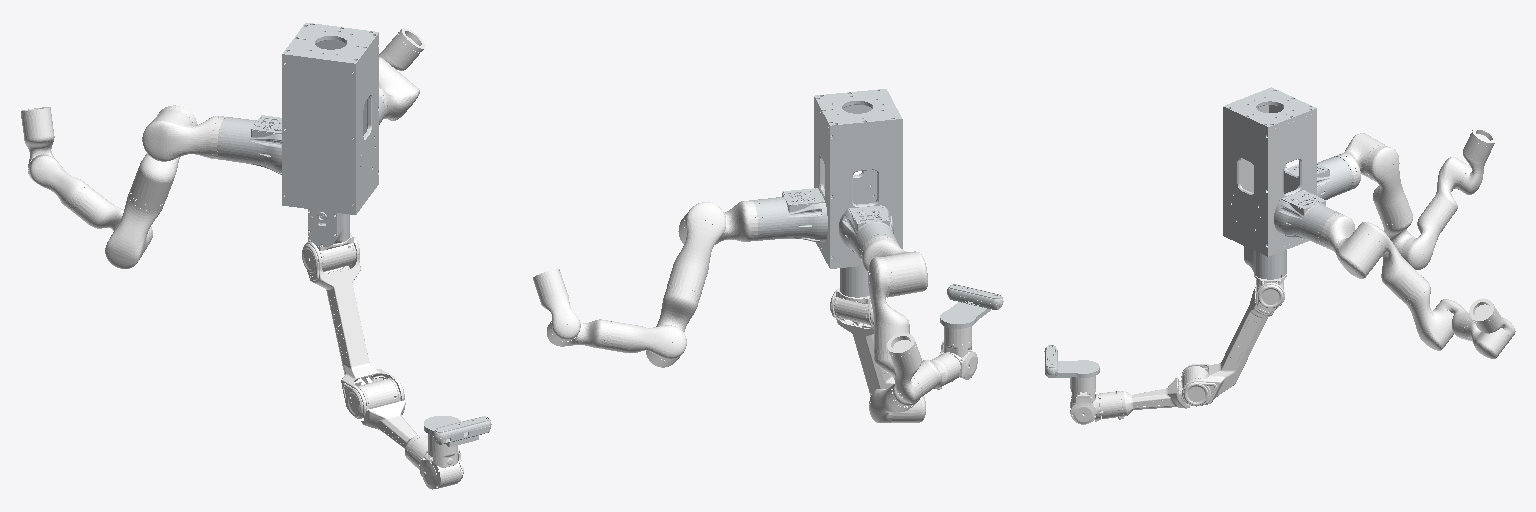
--- What the picture shows (computed from the rendered views, not written in the file) ---
The picture shows the robot from 3 angles, left to right: view 1: azimuth 30°, elevation 25°; view 2: azimuth 150°, elevation 25°; view 3: azimuth 270°, elevation 25°; orthographic projection.
Robot: robot_V13 — 21 links, 20 joints (19 revolute, 1 fixed); root link World; default pose: every joint at zero.
Links seen in each view (by area): view 1: platform_link, Link_S2, Link_B2, Link_B1, Link_S3, Link_B4, Link_S6, Link_A1, Link_B3, Link_B5, Link_A5, Link_S4 (+2 smaller); view 2: platform_link, Link_A2, Link_B2, Link_B1, Link_A3, Link_A5, Link_S6, Link_S2, Link_B5, Link_A1, Link_A4, Link_B4 (+4 smaller); view 3: platform_link, Link_S2, Link_A2, Link_B2, Link_A1, Link_S3, Link_B3, Link_B5, Link_B4, Link_S6, Link_S5, Link_B1 (+3 smaller).
Link boxes in pixels (left/top/right/bottom): platform_link: left=217, top=23, right=385, bottom=246; Link_S2: left=302, top=233, right=404, bottom=418; Link_B2: left=105, top=105, right=197, bottom=268; Link_B1: left=142, top=109, right=224, bottom=161; Link_S3: left=357, top=378, right=427, bottom=469; Link_B4: left=28, top=154, right=86, bottom=207; Link_S6: left=424, top=416, right=491, bottom=446; Link_A1: left=379, top=63, right=419, bottom=120; Link_B3: left=68, top=184, right=152, bottom=243; Link_B5: left=21, top=107, right=54, bottom=177; Link_A5: left=379, top=28, right=424, bottom=70; Link_S4: left=420, top=454, right=461, bottom=489; platform_link: left=753, top=89, right=902, bottom=297; Link_A2: left=646, top=202, right=725, bottom=367; Link_B2: left=868, top=257, right=925, bottom=422; Link_B1: left=861, top=236, right=927, bottom=297; Link_A3: left=603, top=320, right=686, bottom=359; Link_A5: left=533, top=269, right=580, bottom=340; Link_S6: left=940, top=284, right=1003, bottom=328; Link_S2: left=830, top=288, right=894, bottom=395; Link_B5: left=887, top=333, right=921, bottom=403; Link_A1: left=678, top=200, right=757, bottom=244; Link_A4: left=547, top=319, right=607, bottom=348; Link_B4: left=892, top=360, right=941, bottom=406; platform_link: left=1223, top=87, right=1353, bottom=279; Link_S2: left=1181, top=279, right=1284, bottom=406; Link_A2: left=1358, top=222, right=1453, bottom=350; Link_B2: left=1367, top=146, right=1415, bottom=256; Link_A1: left=1321, top=214, right=1385, bottom=278; Link_S3: left=1099, top=366, right=1208, bottom=419; Link_B3: left=1403, top=199, right=1453, bottom=269; Link_B5: left=1461, top=128, right=1495, bottom=194; Link_B4: left=1433, top=157, right=1471, bottom=213; Link_S6: left=1044, top=345, right=1099, bottom=377; Link_S5: left=1070, top=376, right=1096, bottom=423; Link_B1: left=1337, top=133, right=1385, bottom=190.
Bounding box of the posed robot: 0.8912 × 1.03 × 0.7548 m (x, y, z).
17 mesh visuals loaded from 20 distinct referenced files (17 binary STL); not drawn: 3 (reference not matched to a file when rendering).

The robot description file, URDF, robot "robot_V13":
<?xml version="1.0" encoding="utf-8"?>
<!-- This URDF was automatically created by SolidWorks to URDF Exporter! Originally created by Stephen Brawner ([email redacted])
     Commit Version: 1.6.0-4-g7f85cfe  Build Version: 1.6.7995.38578
     For more information, please see http://wiki.ros.org/sw_urdf_exporter -->
<robot
  name="robot_V13">
  <!-- World root link for proper articulation structure in Isaac Sim -->
  <link name="World"/>

  <!-- Fixed joint connecting World to base_link -->
  <joint name="world_to_base" type="fixed">
    <parent link="World"/>
    <child link="base_link"/>
    <origin xyz="0 0 0" rpy="0 0 0"/>
  </joint>

  <link
    name="base_link">
    <inertial>
      <origin
        xyz="0.0350225134736962 -0.045653549564831 0.267035863945469"
        rpy="0 0 0" />
      <mass
        value="289.278432762858" />
      <inertia
        ixx="9.23659204469314"
        ixy="0.00488951210528622"
        ixz="0.00330658007223796"
        iyy="19.3651626709836"
        iyz="0.513621947132372"
        izz="22.3286664811058" />
    </inertial>
    <visual>
      <origin
        xyz="0 0 0"
        rpy="0 0 0" />
      <geometry>
        <mesh
          filename="../meshes/base_link.STL" />
      </geometry>
      <material
        name="">
        <color
          rgba="0.792156862745098 0.819607843137255 0.933333333333333 1" />
      </material>
    </visual>
    <collision>
      <origin
        xyz="0 0 0"
        rpy="0 0 0" />
      <geometry>
        <mesh
          filename="../meshes/base_link.STL" />
      </geometry>
    </collision>
  </link>
  <link
    name="platform_link">
    <inertial>
      <origin
        xyz="0.00669542627058103 0.0327387114637423 -0.197541586318534"
        rpy="0 0 0" />
      <mass
        value="5.62676904597552" />
      <inertia
        ixx="0.032912619778256"
        ixy="-0.00101982319674113"
        ixz="-7.8232029828291E-06"
        iyy="0.0330812050692955"
        iyz="-5.06524274225643E-05"
        izz="0.0111162517830387" />
    </inertial>
    <visual>
      <origin
        xyz="0 0 0"
        rpy="0 0 0" />
      <geometry>
        <mesh
          filename="../meshes/platform_link.STL" />
      </geometry>
      <material
        name="">
        <color
          rgba="0.898039215686275 0.917647058823529 0.929411764705882 1" />
      </material>
    </visual>
    <collision>
      <origin
        xyz="0 0 0"
        rpy="0 0 0" />
      <geometry>
        <mesh
          filename="../meshes/platform_link.STL" />
      </geometry>
    </collision>
  </link>
  <joint
    name="joint_platform_D1"
    type="revolute">
    <origin
      xyz="0 0 0"
      rpy="0 0 0" />
    <parent
      link="base_link" />
    <child
      link="platform_link" />
    <axis
      xyz="0 0 -1" />
    <limit
      lower="-3.14"
      upper="3.14"
      effort="100"
      velocity="50" />
  </joint>
  <link
    name="Link_A1">
    <inertial>
      <origin
        xyz="0.0169308367894223 0.0125928013215484 0.0768128774242119"
        rpy="0 0 0" />
      <mass
        value="0.593525762282562" />
      <inertia
        ixx="0.001211740353914"
        ixy="-4.04510751675718E-05"
        ixz="-0.000169403894082202"
        iyy="0.00123597531032555"
        iyz="-0.000126111277061559"
        izz="0.000561310092473764" />
    </inertial>
    <visual>
      <origin
        xyz="0 0 0"
        rpy="0 0 0" />
      <geometry>
        <mesh
          filename="../meshes/Link_A1.STL" />
      </geometry>
      <material
        name="">
        <color
          rgba="1 1 1 1" />
      </material>
    </visual>
    <collision>
      <origin
        xyz="0 0 0"
        rpy="0 0 0" />
      <geometry>
        <mesh
          filename="../meshes/Link_A1.STL" />
      </geometry>
    </collision>
  </link>
  <joint
    name="joint_platform_A1"
    type="revolute">
    <origin
      xyz="0.156472683129336 0.142433967655858 -0.227311716711955"
      rpy="-1.57079632679501 0 -0.826733214100753" />
    <parent
      link="platform_link" />
    <child
      link="Link_A1" />
    <axis
      xyz="0 0 1" />
    <limit
      lower="-3.14"
      upper="3.14"
      effort="100"
      velocity="50" />
  </joint>
  <link
    name="Link_A2">
    <inertial>
      <origin
        xyz="-0.0126344741021581 -0.151722416609147 0.0226638907893547"
        rpy="0 0 0" />
      <mass
        value="0.864181214181756" />
      <inertia
        ixx="0.00204291594675937"
        ixy="-0.000117497060965045"
        ixz="3.49972816263209E-05"
        iyy="0.000642323165198608"
        iyz="0.00042016637411416"
        izz="0.00195279777242341" />
    </inertial>
    <visual>
      <origin
        xyz="0 0 0"
        rpy="0 0 0" />
      <geometry>
        <mesh
          filename="../meshes/Link_A2.STL" />
      </geometry>
      <material
        name="">
        <color
          rgba="1 1 1 1" />
      </material>
    </visual>
    <collision>
      <origin
        xyz="0 0 0"
        rpy="0 0 0" />
      <geometry>
        <mesh
          filename="../meshes/Link_A2.STL" />
      </geometry>
    </collision>
  </link>
  <joint
    name="joint_platform_A2"
    type="revolute">
    <origin
      xyz="-0.013211 -0.009832 0.102"
      rpy="-1.5708 -1.0682 -0.93088" />
    <parent
      link="Link_A1" />
    <child
      link="Link_A2" />
    <axis
      xyz="0 0 1" />
    <limit
      lower="-2.26"
      upper="2.26"
      effort="100"
      velocity="50" />
  </joint>
  <link
    name="Link_A3">
    <inertial>
      <origin
        xyz="0.0578270527827575 -0.0144992229203418 0.00266652314198285"
        rpy="0 0 0" />
      <mass
        value="0.289645597916636" />
      <inertia
        ixx="0.000184905939167842"
        ixy="0.000113389601168155"
        ixz="-0.000140277049300771"
        iyy="0.000608954956903588"
        iyz="3.51374260818499E-05"
        izz="0.000614182801459952" />
    </inertial>
    <visual>
      <origin
        xyz="0 0 0"
        rpy="0 0 0" />
      <geometry>
        <mesh
          filename="../meshes/Link_A3.STL" />
      </geometry>
      <material
        name="">
        <color
          rgba="1 1 1 1" />
      </material>
    </visual>
    <collision>
      <origin
        xyz="0 0 0"
        rpy="0 0 0" />
      <geometry>
        <mesh
          filename="../meshes/Link_A3.STL" />
      </geometry>
    </collision>
  </link>
  <joint
    name="joint_platform_A3"
    type="revolute">
    <origin
      xyz="-0.02127 -0.2551 0.0035251"
      rpy="0 0 0" />
    <parent
      link="Link_A2" />
    <child
      link="Link_A3" />
    <axis
      xyz="0 0 1" />
    <limit
      lower="-2.26"
      upper="2.26"
      effort="100"
      velocity="50" />
  </joint>
  <link
    name="Link_A4">
    <inertial>
      <origin
        xyz="0.016896007871893 -0.00633304037762816 -0.05996151419747"
        rpy="0 0 0" />
      <mass
        value="0.239433776027785" />
      <inertia
        ixx="0.000265607043125794"
        ixy="7.64305481199855E-06"
        ixz="4.14131935380001E-05"
        iyy="0.000283077940585531"
        iyz="-1.55624791539585E-05"
        izz="0.000119899346983553" />
    </inertial>
    <visual>
      <origin
        xyz="0 0 0"
        rpy="0 0 0" />
      <geometry>
        <mesh
          filename="../meshes/Link_A4.STL" />
      </geometry>
      <material
        name="">
        <color
          rgba="1 1 1 1" />
      </material>
    </visual>
    <collision>
      <origin
        xyz="0 0 0"
        rpy="0 0 0" />
      <geometry>
        <mesh
          filename="../meshes/Link_A4.STL" />
      </geometry>
    </collision>
  </link>
  <joint
    name="joint_platform_A4"
    type="revolute">
    <origin
      xyz="0.12466 -0.031269 0.013236"
      rpy="-1.5708 -1.2113 1.3251" />
    <parent
      link="Link_A3" />
    <child
      link="Link_A4" />
    <axis
      xyz="0 0 -1" />
    <limit
      lower="-3.14"
      upper="3.14"
      effort="100"
      velocity="50" />
  </joint>
  <link
    name="Link_A5">
    <inertial>
      <origin
        xyz="0.0380094230376776 0.0456440434886026 0.00506810747745645"
        rpy="0 0 0" />
      <mass
        value="0.218793807603732" />
      <inertia
        ixx="0.000249967614137682"
        ixy="-0.000120769356677445"
        ixz="-5.00570691133891E-05"
        iyy="0.000205481998419059"
        iyz="-6.01294670291514E-05"
        izz="0.000334465752993695" />
    </inertial>
    <visual>
      <origin
        xyz="0 0 0"
        rpy="0 0 0" />
      <geometry>
        <mesh
          filename="../meshes/Link_A5.STL" />
      </geometry>
      <material
        name="">
        <color
          rgba="1 1 1 1" />
      </material>
    </visual>
    <collision>
      <origin
        xyz="0 0 0"
        rpy="0 0 0" />
      <geometry>
        <mesh
          filename="../meshes/Link_A5.STL" />
      </geometry>
    </collision>
  </link>
  <joint
    name="joint_platform_A5"
    type="revolute">
    <origin
      xyz="-0.011361 0.0042683 -0.0815"
      rpy="1.5708 1.3251 1.2113" />
    <parent
      link="Link_A4" />
    <child
      link="Link_A5" />
    <axis
      xyz="0 0 1" />
    <limit
      lower="-2.2"
      upper="2.2"
      effort="100"
      velocity="50" />
  </joint>
  <link
    name="Link_A6">
    <inertial>
      <origin
        xyz="0.00606884565213639 0.0152502416830386 0.109538960794972"
        rpy="0 0 0" />
      <mass
        value="0.652237451823604" />
      <inertia
        ixx="0.000301203372093203"
        ixy="-4.46063215910981E-05"
        ixz="-4.21673354067884E-09"
        iyy="0.000220903467434786"
        iyz="-3.33580588515041E-08"
        izz="0.000367350798134239" />
    </inertial>
    <visual>
      <origin
        xyz="0 0 0"
        rpy="0 0 0" />
      <geometry>
        <mesh
          filename="../meshes/Link_A6.STL" />
      </geometry>
      <material
        name="">
        <color
          rgba="1 1 1 1" />
      </material>
    </visual>
    <collision>
      <origin
        xyz="0 0 0"
        rpy="0 0 0" />
      <geometry>
        <mesh
          filename="../meshes/Link_A6.STL" />
      </geometry>
    </collision>
  </link>
  <joint
    name="joint_platform_A6"
    type="revolute">
    <origin
      xyz="0.0736102642149934 0.0883749191141996 0.0124357145512975"
      rpy="-1.57079646161027 -0.699913541621339 -0.694444981452453" />
    <parent
      link="Link_A5" />
    <child
      link="Link_A6" />
    <axis
      xyz="0 0 0.999999999999972" />
    <limit
      lower="-6.2"
      upper="6.2"
      effort="100"
      velocity="50" />
  </joint>
  <link
    name="Link_B1">
    <inertial>
      <origin
        xyz="-0.0210307677045693 -0.00180296762531718 0.0768121489298764"
        rpy="0 0 0" />
      <mass
        value="0.593520652494392" />
      <inertia
        ixx="0.00118220895129829"
        ixy="-7.13362599303804E-06"
        ixz="0.000210418284594544"
        iyy="0.00126545347689259"
        iyz="1.7913404274321E-05"
        izz="0.000561301129753201" />
    </inertial>
    <visual>
      <origin
        xyz="0 0 0"
        rpy="0 0 0" />
      <geometry>
        <mesh
          filename="../meshes/Link_B1.STL" />
      </geometry>
      <material
        name="">
        <color
          rgba="1 1 1 1" />
      </material>
    </visual>
    <collision>
      <origin
        xyz="0 0 0"
        rpy="0 0 0" />
      <geometry>
        <mesh
          filename="../meshes/Link_B1.STL" />
      </geometry>
    </collision>
  </link>
  <joint
    name="joint_platform_B1"
    type="revolute">
    <origin
      xyz="-0.142473632839857 0.155636147433961 -0.227311716711636"
      rpy="-1.57079632679501 0 0.744063112694143" />
    <parent
      link="platform_link" />
    <child
      link="Link_B1" />
    <axis
      xyz="0 0 1" />
    <limit
      lower="-3.1"
      upper="3.1"
      effort="100"
      velocity="50" />
  </joint>
  <link
    name="Link_B2">
    <inertial>
      <origin
        xyz="-0.0512923555647222 0.143368774947795 -0.0226638192200043"
        rpy="0 0 0" />
      <mass
        value="0.864180135653825" />
      <inertia
        ixx="0.00189155343231143"
        ixy="0.000450453897318777"
        ixz="-0.000142032194705507"
        iyy="0.000793701521921683"
        iyz="0.000396980873965514"
        izz="0.00195281226208713" />
    </inertial>
    <visual>
      <origin
        xyz="0 0 0"
        rpy="0 0 0" />
      <geometry>
        <mesh
          filename="../meshes/Link_B2.STL" />
      </geometry>
      <material
        name="">
        <color
          rgba="1 1 1 1" />
      </material>
    </visual>
    <collision>
      <origin
        xyz="0 0 0"
        rpy="0 0 0" />
      <geometry>
        <mesh
          filename="../meshes/Link_B2.STL" />
      </geometry>
    </collision>
  </link>
  <joint
    name="joint_platform_B2"
    type="revolute">
    <origin
      xyz="0.0164025952708852 0.00137401341327159 0.102000000000029"
      rpy="0.0849621690785075 1.5707963267949 0" />
    <parent
      link="Link_B1" />
    <child
      link="Link_B2" />
    <axis
      xyz="0 0 1" />
    <limit
      lower="-2.26"
      upper="2.26"
      effort="100"
      velocity="50" />
  </joint>
  <link
    name="Link_B3">
    <inertial>
      <origin
        xyz="-0.0445835523044267 0.0396010749025043 0.00266699879920274"
        rpy="0 0 0" />
      <mass
        value="0.289639370938033" />
      <inertia
        ixx="0.000368538565038667"
        ixy="0.000238752155526786"
        ixz="0.000108127866575019"
        iyy="0.000425300259079389"
        iyz="-9.60150408414951E-05"
        izz="0.000614165810695594" />
    </inertial>
    <visual>
      <origin
        xyz="0 0 0"
        rpy="0 0 0" />
      <geometry>
        <mesh
          filename="../meshes/Link_B3.STL" />
      </geometry>
      <material
        name="">
        <color
          rgba="1 1 1 1" />
      </material>
    </visual>
    <collision>
      <origin
        xyz="0 0 0"
        rpy="0 0 0" />
      <geometry>
        <mesh
          filename="../meshes/Link_B3.STL" />
      </geometry>
    </collision>
  </link>
  <joint
    name="joint_platform_B3"
    type="revolute">
    <origin
      xyz="-0.0862037470031803 0.241063204199487 -0.00352514725905964"
      rpy="3.14159265358979 0 -0.0919224225404343" />
    <parent
      link="Link_B2" />
    <child
      link="Link_B3" />
    <axis
      xyz="0 0 1" />
    <limit
      lower="-2.26"
      upper="2.26"
      effort="100"
      velocity="50" />
  </joint>
  <link
    name="Link_B4">
    <inertial>
      <origin
        xyz="-0.00734522629106943 0.0164811078491696 -0.0599618100809589"
        rpy="0 0 0" />
      <mass
        value="0.239430613356858" />
      <inertia
        ixx="0.000282116069340483"
        ixy="8.61912197590685E-06"
        ixz="-1.79748327822411E-05"
        iyy="0.000266568837663139"
        iyz="4.04244202966505E-05"
        izz="0.000119899571670421" />
    </inertial>
    <visual>
      <origin
        xyz="0 0 0"
        rpy="0 0 0" />
      <geometry>
        <mesh
          filename="../meshes/Link_B4.STL" />
      </geometry>
      <material
        name="">
        <color
          rgba="1 1 1 1" />
      </material>
    </visual>
    <collision>
      <origin
        xyz="0 0 0"
        rpy="0 0 0" />
      <geometry>
        <mesh
          filename="../meshes/Link_B4.STL" />
      </geometry>
    </collision>
  </link>
  <joint
    name="joint_platform_B4"
    type="revolute">
    <origin
      xyz="-0.0960920462857941 0.0853717682345888 0.013226827485807"
      rpy="1.57079632679491 1.01854263840748 0.844439767031704" />
    <parent
      link="Link_B3" />
    <child
      link="Link_B4" />
    <axis
      xyz="0 0 1" />
    <limit
      lower="-3.14"
      upper="3.14"
      effort="100"
      velocity="50" />
  </joint>
  <link
    name="Link_B5">
    <inertial>
      <origin
        xyz="0.0113936142303117 0.0581872059745607 0.00506814468023165"
        rpy="0 0 0" />
      <mass
        value="0.218793325862955" />
      <inertia
        ixx="0.000341452617129859"
        ixy="-4.63203645787263E-05"
        ixz="-1.50283567730721E-05"
        iyy="0.000113994717660019"
        iyz="-7.67811785488284E-05"
        izz="0.000334463194187607" />
    </inertial>
    <visual>
      <origin
        xyz="0 0 0"
        rpy="0 0 0" />
      <geometry>
        <mesh
          filename="../meshes/Link_B5.STL" />
      </geometry>
      <material
        name="">
        <color
          rgba="1 1 1 1" />
      </material>
    </visual>
    <collision>
      <origin
        xyz="0 0 0"
        rpy="0 0 0" />
      <geometry>
        <mesh
          filename="../meshes/Link_B5.STL" />
      </geometry>
    </collision>
  </link>
  <joint
    name="joint_platform_B5"
    type="revolute">
    <origin
      xyz="0.00498093355069423 -0.0110668807595307 -0.0815561902327434"
      rpy="-1.5707963267949 -0.573741362025699 0.418364132516817" />
    <parent
      link="Link_B4" />
    <child
      link="Link_B5" />
    <axis
      xyz="0 0 1" />
    <limit
      lower="-2.2"
      upper="2.2"
      effort="100"
      velocity="50" />
  </joint>
  <link
    name="Link_B6">
    <inertial>
      <origin
        xyz="-0.00256296562750091 0.0162138395278224 0.10953897454242"
        rpy="0 0 0" />
      <mass
        value="0.652237455496743" />
      <inertia
        ixx="0.000319425998252991"
        ixy="1.39426400580414E-05"
        ixz="1.33570230674664E-08"
        iyy="0.000202680996434978"
        iyz="-3.08175467257231E-08"
        izz="0.000367350905559284" />
    </inertial>
    <visual>
      <origin
        xyz="0 0 0"
        rpy="0 0 0" />
      <geometry>
        <mesh
          filename="../meshes/Link_B6.STL" />
      </geometry>
      <material
        name="">
        <color
          rgba="1 1 1 1" />
      </material>
    </visual>
    <collision>
      <origin
        xyz="0 0 0"
        rpy="0 0 0" />
      <geometry>
        <mesh
          filename="../meshes/Link_B6.STL" />
      </geometry>
    </collision>
  </link>
  <joint
    name="joint_platform_B6"
    type="revolute">
    <origin
      xyz="0.0220769553081411 0.112769294031951 0.0124298510263973"
      rpy="-1.5707963267949 0.363602003221376 -0.193504212101692" />
    <parent
      link="Link_B5" />
    <child
      link="Link_B6" />
    <axis
      xyz="0 0 1" />
    <limit
      lower="-6.2"
      upper="6.2"
      effort="100"
      velocity="50" />
  </joint>
  <link
    name="Link_S1">
    <inertial>
      <origin
        xyz="-0.00111431623367674 -0.000394920204415866 -0.0279765574769409"
        rpy="0 0 0" />
      <mass
        value="0.106878620604356" />
      <inertia
        ixx="7.78786903515349E-05"
        ixy="-1.606819751846E-08"
        ixz="2.61075287396989E-06"
        iyy="9.22279471336507E-05"
        iyz="2.93084723436216E-07"
        izz="8.34708373040095E-05" />
    </inertial>
    <visual>
      <origin
        xyz="0 0 0"
        rpy="0 0 0" />
      <geometry>
        <mesh
          filename="../meshes/Link_S1.STL" />
      </geometry>
      <material
        name="">
        <color
          rgba="1 1 1 1" />
      </material>
    </visual>
    <collision>
      <origin
        xyz="0 0 0"
        rpy="0 0 0" />
      <geometry>
        <mesh
          filename="../meshes/Link_S1.STL" />
      </geometry>
    </collision>
  </link>
  <joint
    name="joint_platform_S1"
    type="revolute">
    <origin
      xyz="0.000433041860730524 0.000398644471470921 -0.39995"
      rpy="0 0 0" />
    <parent
      link="platform_link" />
    <child
      link="Link_S1" />
    <axis
      xyz="0 0 1" />
    <limit
      lower="-2.68"
      upper="2.68"
      effort="100"
      velocity="50" />
  </joint>
  <link
    name="Link_S2">
    <inertial>
      <origin
        xyz="0.0724194778767879 -0.131936188075807 0.044406043154082"
        rpy="0 0 0" />
      <mass
        value="0.203920919386394" />
      <inertia
        ixx="0.00128889812936827"
        ixy="0.00066263638005062"
        ixz="-7.91150391912721E-06"
        iyy="0.000642111780427922"
        iyz="3.8314689659501E-07"
        izz="0.00162755121218312" />
    </inertial>
    <visual>
      <origin
        xyz="0 0 0"
        rpy="0 0 0" />
      <geometry>
        <mesh
          filename="../meshes/Link_S2.STL" />
      </geometry>
      <material
        name="">
        <color
          rgba="1 1 1 1" />
      </material>
    </visual>
    <collision>
      <origin
        xyz="0 0 0"
        rpy="0 0 0" />
      <geometry>
        <mesh
          filename="../meshes/Link_S2.STL" />
      </geometry>
    </collision>
  </link>
  <joint
    name="joint_platform_S2"
    type="revolute">
    <origin
      xyz="0.0367444027969984 0.00064137593620528 -0.0370499999999101"
      rpy="1.5707963267949 0 -1.5533430342851" />
    <parent
      link="Link_S1" />
    <child
      link="Link_S2" />
    <axis
      xyz="0 0 1" />
    <limit
      lower="0"
      upper="3.3"
      effort="100"
      velocity="50" />
  </joint>
  <link
    name="Link_S3">
    <inertial>
      <origin
        xyz="0.100943213162187 -0.0283683578342203 0.0476334565574921"
        rpy="0 0 0" />
      <mass
        value="0.259290582671513" />
      <inertia
        ixx="9.87188428452086E-05"
        ixy="1.87582848560715E-05"
        ixz="-9.74231758607961E-07"
        iyy="0.00018114878198025"
        iyz="6.25962927670275E-07"
        izz="0.000209231319367455" />
    </inertial>
    <visual>
      <origin
        xyz="0 0 0"
        rpy="0 0 0" />
      <geometry>
        <mesh
          filename="../meshes/Link_S3.STL" />
      </geometry>
      <material
        name="">
        <color
          rgba="1 1 1 1" />
      </material>
    </visual>
    <collision>
      <origin
        xyz="0 0 0"
        rpy="0 0 0" />
      <geometry>
        <mesh
          filename="../meshes/Link_S3.STL" />
      </geometry>
    </collision>
  </link>
  <joint
    name="joint_platform_S3"
    type="revolute">
    <origin
      xyz="0.162822697705282 -0.233968487158141 -0.0104499999999984"
      rpy="0 0 0" />
    <parent
      link="Link_S2" />
    <child
      link="Link_S3" />
    <axis
      xyz="0 0 1" />
    <limit
      lower="0"
      upper="3.14"
      effort="100"
      velocity="50" />
  </joint>
  <link
    name="Link_S4">
    <inertial>
      <origin
        xyz="0.00107591854177631 -0.00020414949966685 0.0322093232185801"
        rpy="0 0 0" />
      <mass
        value="0.120706963097644" />
      <inertia
        ixx="4.59016732865594E-05"
        ixy="2.29836774590002E-08"
        ixz="6.8387688147042E-08"
        iyy="3.66186704128841E-05"
        iyz="-4.6682059016054E-08"
        izz="3.90050008398091E-05" />
    </inertial>
    <visual>
      <origin
        xyz="0 0 0"
        rpy="0 0 0" />
      <geometry>
        <mesh
          filename="../meshes/Link_S4.STL" />
      </geometry>
      <material
        name="">
        <color
          rgba="1 1 1 1" />
      </material>
    </visual>
    <collision>
      <origin
        xyz="0 0 0"
        rpy="0 0 0" />
      <geometry>
        <mesh
          filename="../meshes/Link_S4.STL" />
      </geometry>
    </collision>
  </link>
  <joint
    name="joint_platform_S4"
    type="revolute">
    <origin
      xyz="0.210129289624401 -0.0494636890451812 0.047199999999998"
      rpy="1.57079632679571 1.56854804510877 1.44163329792559" />
    <parent
      link="Link_S3" />
    <child
      link="Link_S4" />
    <axis
      xyz="0 0 -1" />
    <limit
      lower="-1.55"
      upper="1.55"
      effort="100"
      velocity="50" />
  </joint>
  <link
    name="Link_S5">
    <inertial>
      <origin
        xyz="3.87467427749866E-05 -0.0573118425040661 -0.0211795550061192"
        rpy="0 0 0" />
      <mass
        value="0.136459782082442" />
      <inertia
        ixx="0.000120530792445934"
        ixy="-2.73115643611787E-07"
        ixz="4.64606803997837E-08"
        iyy="6.56085938663145E-05"
        iyz="-2.43325821388101E-05"
        izz="0.000114402970292959" />
    </inertial>
    <visual>
      <origin
        xyz="0 0 0"
        rpy="0 0 0" />
      <geometry>
        <mesh
          filename="../meshes/Link_S5.STL" />
      </geometry>
      <material
        name="">
        <color
          rgba="1 1 1 1" />
      </material>
    </visual>
    <collision>
      <origin
        xyz="0 0 0"
        rpy="0 0 0" />
      <geometry>
        <mesh
          filename="../meshes/Link_S5.STL" />
      </geometry>
    </collision>
  </link>
  <joint
    name="joint_platform_S5"
    type="revolute">
    <origin
      xyz="0.0239199395449672 -5.37788526262517E-05 0.0369999999999999"
      rpy="1.57079632679489 -1.4416332979245 1.56854804510879" />
    <parent
      link="Link_S4" />
    <child
      link="Link_S5" />
    <axis
      xyz="0 0 -1" />
    <limit
      lower="-1.55"
      upper="1.55"
      effort="100"
      velocity="50" />
  </joint>
  <link
    name="Link_S6">
    <inertial>
      <origin
        xyz="0.000874537945305703 -0.0417696009854715 0.0121227762062894"
        rpy="0 0 0" />
      <mass
        value="0.319123227352636" />
      <inertia
        ixx="0.000210288101823833"
        ixy="5.15584728878731E-09"
        ixz="6.73512736976063E-07"
        iyy="0.000226598974932404"
        iyz="-2.80611253853446E-07"
        izz="0.000419233743639763" />
    </inertial>
    <visual>
      <origin
        xyz="0 0 0"
        rpy="0 0 0" />
      <geometry>
        <mesh
          filename="../meshes/Link_S6.STL" />
      </geometry>
      <material
        name="">
        <color
          rgba="0.898039215686275 0.917647058823529 0.929411764705882 1" />
      </material>
    </visual>
    <collision>
      <origin
        xyz="0 0 0"
        rpy="0 0 0" />
      <geometry>
        <mesh
          filename="../meshes/Link_S6.STL" />
      </geometry>
    </collision>
  </link>
  <joint
    name="joint_platform_S6"
    type="revolute">
    <origin
      xyz="0 -0.0909999999999964 -0.0249165214861997"
      rpy="1.57079632679511 -1.55334303428509 0" />
    <parent
      link="Link_S5" />
    <child
      link="Link_S6" />
    <axis
      xyz="0 0 -1" />
    <limit
      lower="-3"
      upper="3"
      effort="100"
      velocity="50" />
  </joint>
</robot>
